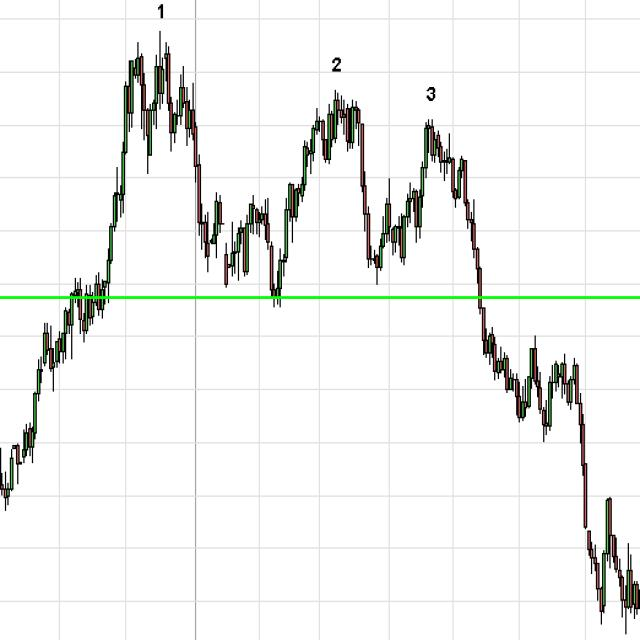Triple-Top: (52, 30, 503, 288)
